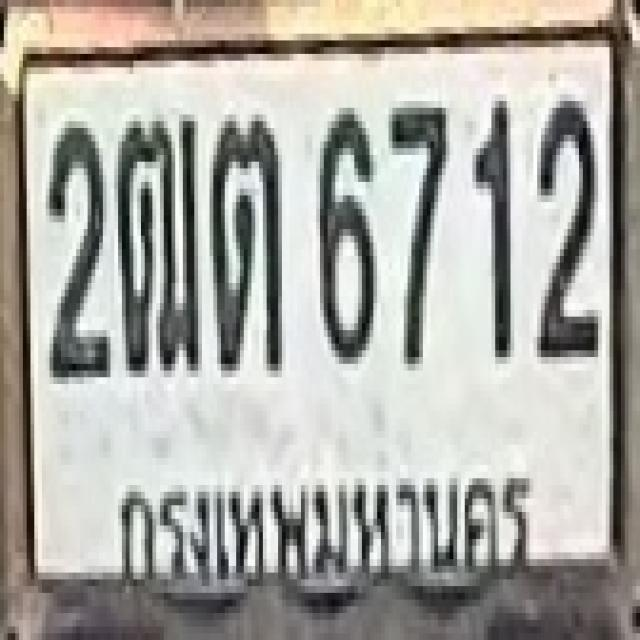-: (114, 111, 198, 374), (208, 111, 280, 367)
1: (472, 94, 510, 357)
2: (534, 94, 594, 350), (46, 118, 106, 374)
6: (316, 101, 374, 357)
7: (384, 98, 446, 360)
BKK: (100, 450, 542, 608)
